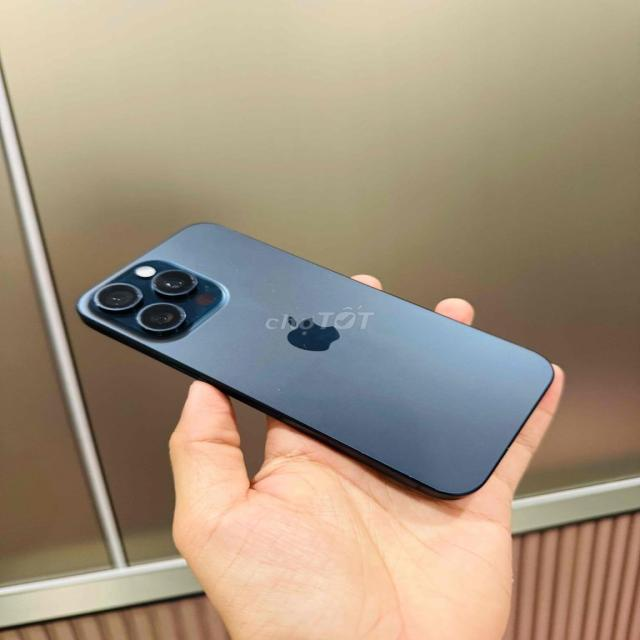gen_15: (65, 211, 563, 492)
